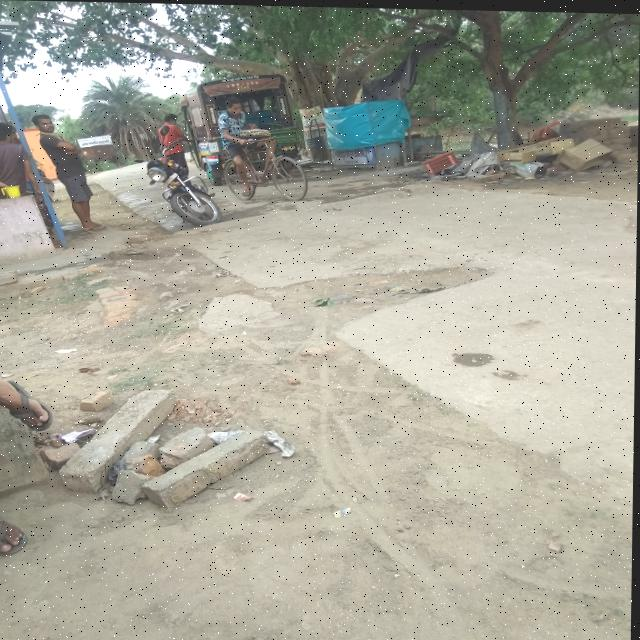plate: (163, 172, 179, 187)
